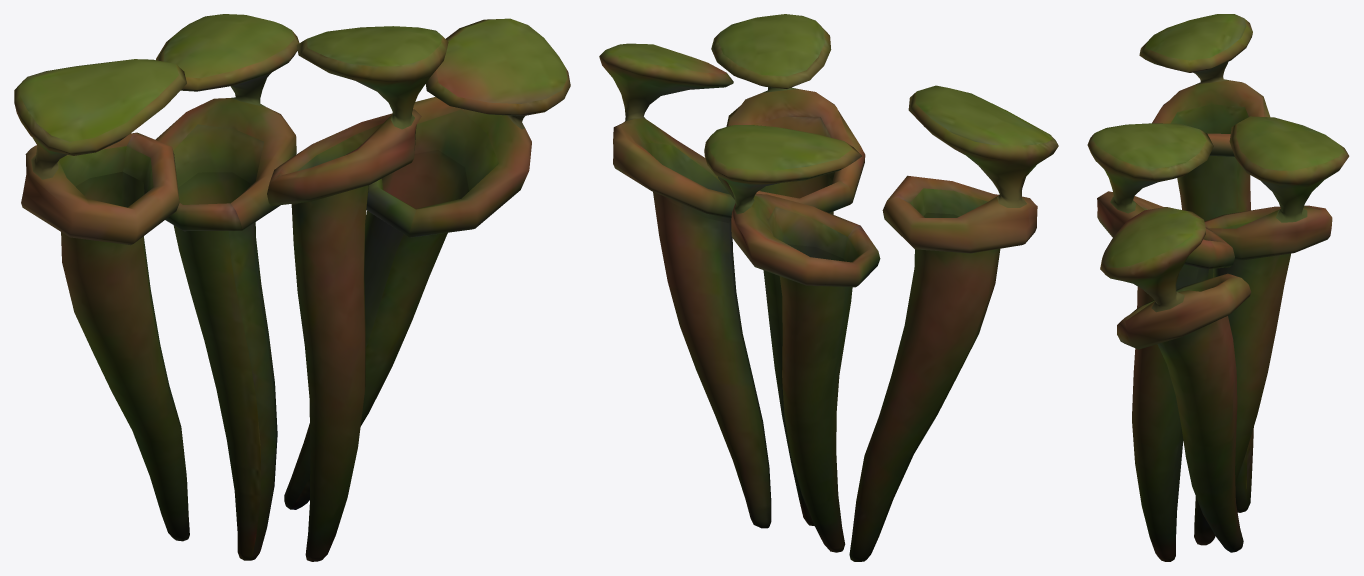
File: pitcher-plant.glb
3 renders of one model, left to right at view 1: azimuth 30°, elevation 25°; view 2: azimuth 150°, elevation 25°; view 3: azimuth 270°, elevation 25°, orthographic. The views are drawn at different scales.
Visible parts, largest first — view 1: Cube.006; view 2: Cube.006; view 3: Cube.006.
Part boxes in pixels (box(x1,y1,x2,y2)): Cube.006: box(14, 14, 570, 561); Cube.006: box(599, 14, 1058, 561); Cube.006: box(1087, 14, 1349, 561).
Size of the model in its own units: 0.6305 by 0.6286 by 0.3277.
1 material, 1 textured.
